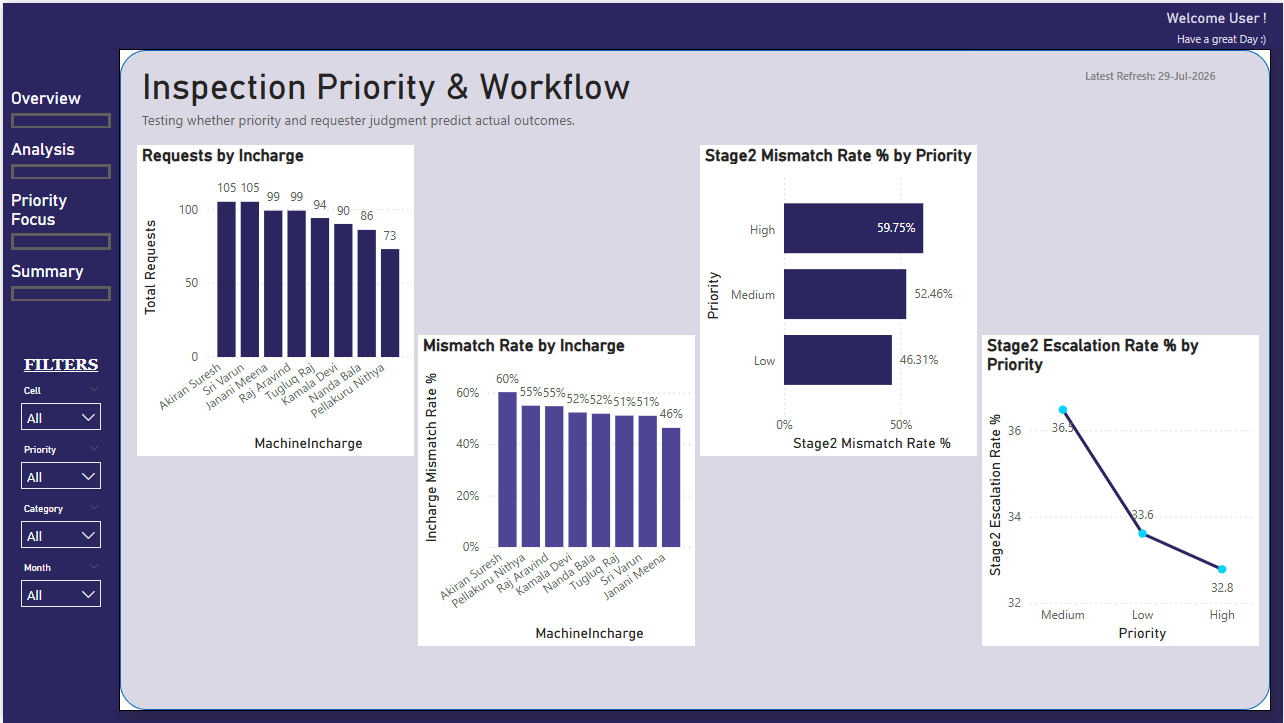

This screenshot's page, from the dashboard's own definition file:
{"tool":"powerbi","page":{"name":"Priority Focus","canvas":[1280,720],"ordinal":2},"visuals":[{"type":"shape","box":[116,46,1152,662],"z":0},{"type":"actionButton","title":"Overview","box":[8,85,100,40],"z":1000},{"type":"actionButton","title":"Analysis","box":[8,136,100,40],"z":2000},{"type":"actionButton","title":"Priority Focus","box":[8.3,186.7,99.6,60.2],"z":3000},{"type":"actionButton","title":"Summary","box":[8.3,258.3,99.6,39.4],"z":4000},{"type":"textbox","box":[8,347,100,281],"z":5000},{"type":"slicer","fields":{"Values":["inspection_master.Cell"]},"box":[8,377,100,59],"z":6000},{"type":"slicer","fields":{"Values":["inspection_master.Priority"]},"box":[8,436,100,59],"z":7000},{"type":"slicer","fields":{"Values":["inspection_master.RequestCategory"]},"box":[8,495,100,59],"z":8000},{"type":"slicer","fields":{"Values":["inspection_master.Month"]},"box":[8,554,100,59],"z":9000},{"type":"textbox","title":"Inspection Priority & Workflow","box":[134,62,537,65],"z":10000},{"type":"textbox","title":"Inspection Command Center","box":[692,71,537,65],"z":11000},{"type":"cardVisual","fields":{"Data":["inspection_master.Last Refresh"]},"box":[1052,47,191,48],"z":12000},{"type":"textbox","title":"Welcome User ! ","box":[968,7,300,39],"z":13000},{"type":"clusteredColumnChart","title":"Requests by Incharge","fields":{"Category":["inspection_master.MachineIncharge"],"Y":["inspection_master.Total Requests"]},"box":[133.8,142.1,277,311.2],"z":14000},{"type":"clusteredColumnChart","title":"Mismatch Rate by Incharge","fields":{"Category":["inspection_master.MachineIncharge"],"Y":["inspection_master.Incharge Mismatch Rate %"]},"box":[414.9,331.9,277,311.2],"z":15000},{"type":"clusteredBarChart","fields":{"Y":["inspection_master.Stage2 Mismatch Rate %"],"Category":["inspection_master.Priority"]},"box":[697,142.1,277,311.2],"z":16000},{"type":"lineChart","fields":{"Category":["inspection_master.Priority"],"Y":["inspection_master.Stage2 Escalation Rate %"]},"box":[979.2,331.9,277,311.2],"z":17000}]}

Visuals, with their boxes on the page's 1280x720 design canvas (x1, y1, x2, y2). These are canvas units, not pixel positions in the 1284x723 screenshot, which may show the page scaled, cropped or inside an application window:
shape: left=116, top=46, right=1268, bottom=708
"Overview" actionButton: left=8, top=85, right=108, bottom=125
"Analysis" actionButton: left=8, top=136, right=108, bottom=176
"Priority Focus" actionButton: left=8, top=187, right=108, bottom=247
"Summary" actionButton: left=8, top=258, right=108, bottom=298
textbox: left=8, top=347, right=108, bottom=628
slicer - inspection_master.Cell: left=8, top=377, right=108, bottom=436
slicer - inspection_master.Priority: left=8, top=436, right=108, bottom=495
slicer - inspection_master.RequestCategory: left=8, top=495, right=108, bottom=554
slicer - inspection_master.Month: left=8, top=554, right=108, bottom=613
"Inspection Priority & Workflow" textbox: left=134, top=62, right=671, bottom=127
"Inspection Command Center" textbox: left=692, top=71, right=1229, bottom=136
cardVisual - inspection_master.Last Refresh: left=1052, top=47, right=1243, bottom=95
"Welcome User ! " textbox: left=968, top=7, right=1268, bottom=46
"Requests by Incharge" clusteredColumnChart: left=134, top=142, right=411, bottom=453
"Mismatch Rate by Incharge" clusteredColumnChart: left=415, top=332, right=692, bottom=643
clusteredBarChart - inspection_master.Stage2 Mismatch Rate % x inspection_master.Priority: left=697, top=142, right=974, bottom=453
lineChart - inspection_master.Priority x inspection_master.Stage2 Escalation Rate %: left=979, top=332, right=1256, bottom=643
